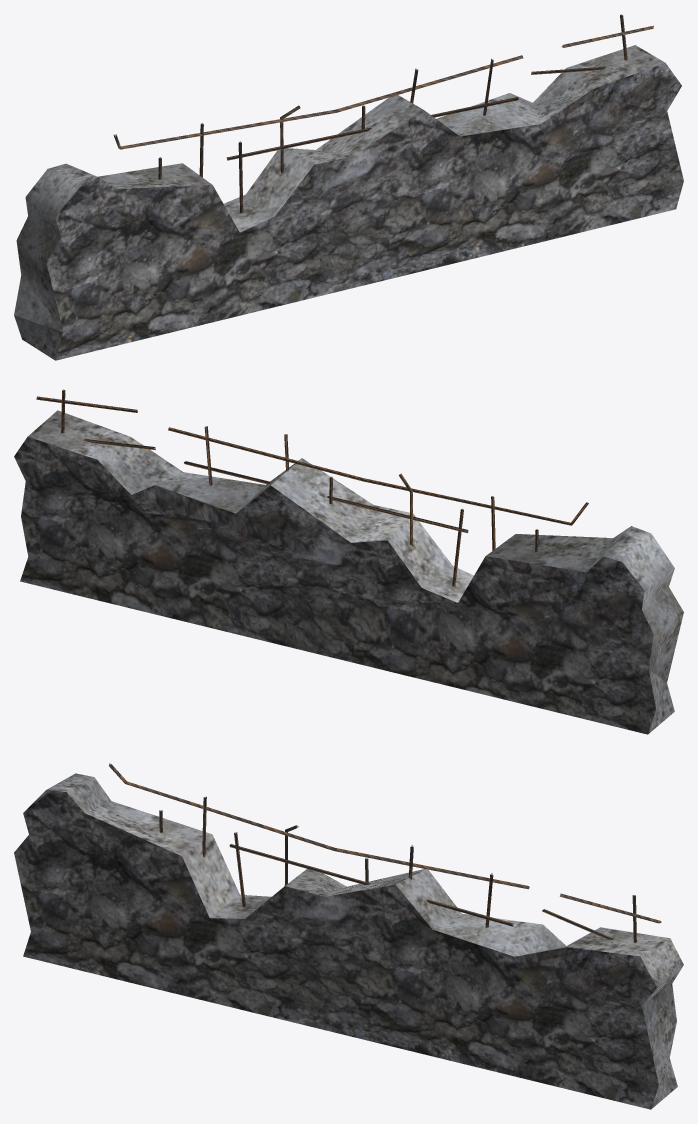
Rendered from Broken_3.fbx.
3 views of the same model, one above another, from view 1: azimuth 30°, elevation 25°; view 2: azimuth 150°, elevation 25°; view 3: azimuth 330°, elevation 25° (orthographic).
Parts seen in each view (by area): view 1: polySurface1492; view 2: polySurface1492; view 3: polySurface1492.
Part boxes in pixels (bbox=[...]): polySurface1492: bbox=[14, 14, 683, 360]; polySurface1492: bbox=[14, 389, 683, 734]; polySurface1492: bbox=[14, 763, 683, 1109].
Bounding box in the file's own units: 8.12 × 2.41 × 0.6588.
1 material, 1 textured.
